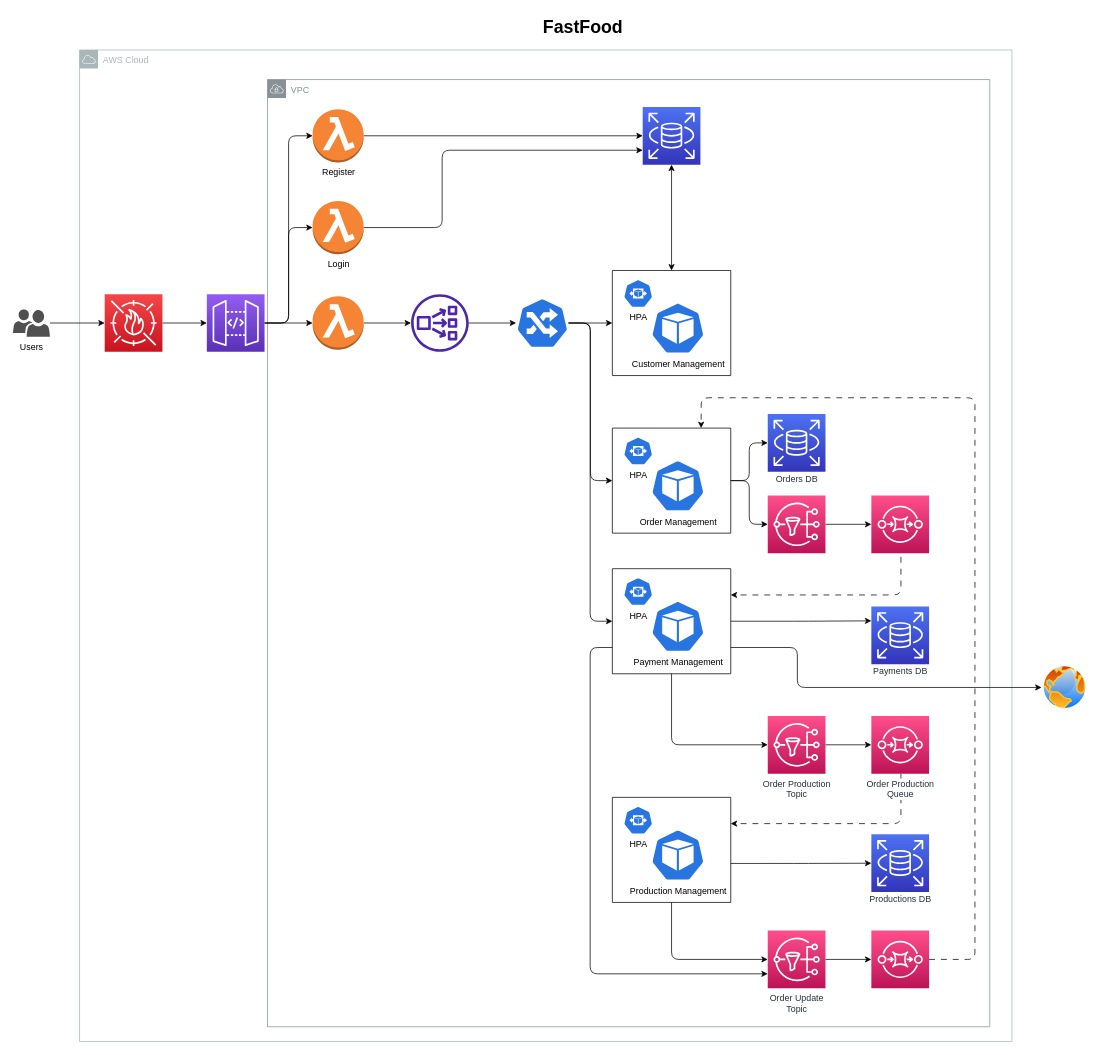
The diagram is 1112 pixels wide and 1055 high, and some of its shapes have lost their labels. The shapes that lost their labels are listed below. From the top down, each one's centre as x and y in pixels, then its label:
the point at 671,135: Customers DB
the point at 133,322: WAF
the point at 235,322: Gateway
the point at 338,323: Authorizer
the point at 439,323: NLB
the point at 542,322: Ingress
the point at 796,524: Order Payment Topic
the point at 900,524: Order Payment Queue
the point at 1064,687: External Payment Gateway
the point at 900,959: Order Update Queue
